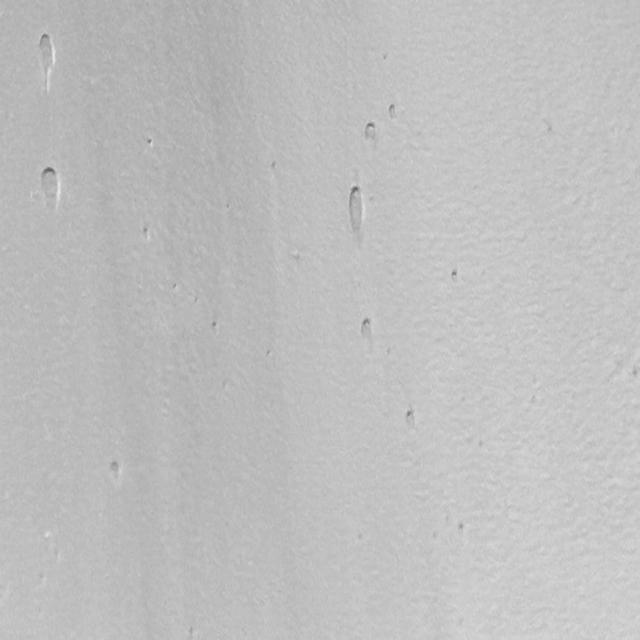pin holes: (28, 22, 62, 98), (34, 164, 66, 217), (342, 183, 372, 235), (106, 456, 127, 485), (356, 314, 376, 343), (360, 119, 380, 143), (402, 407, 421, 431), (140, 221, 158, 245), (208, 315, 225, 337), (387, 103, 404, 123), (447, 267, 463, 285), (454, 519, 468, 538), (143, 134, 157, 150), (630, 363, 640, 381)
